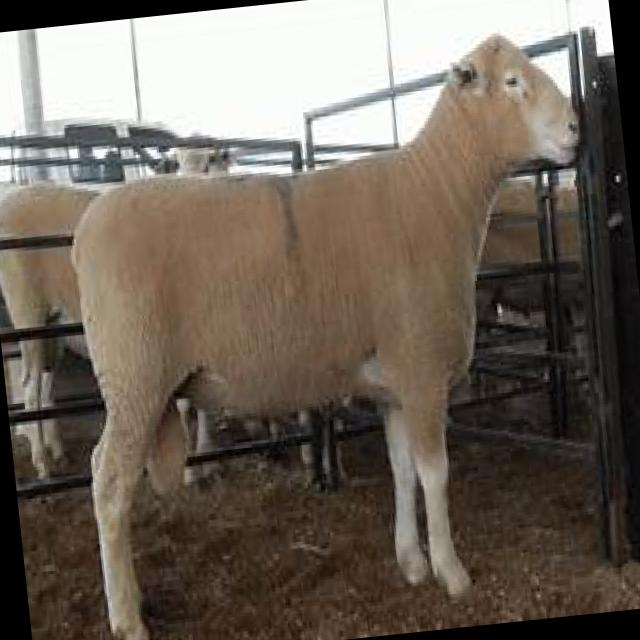sheep: (45, 22, 628, 640)
